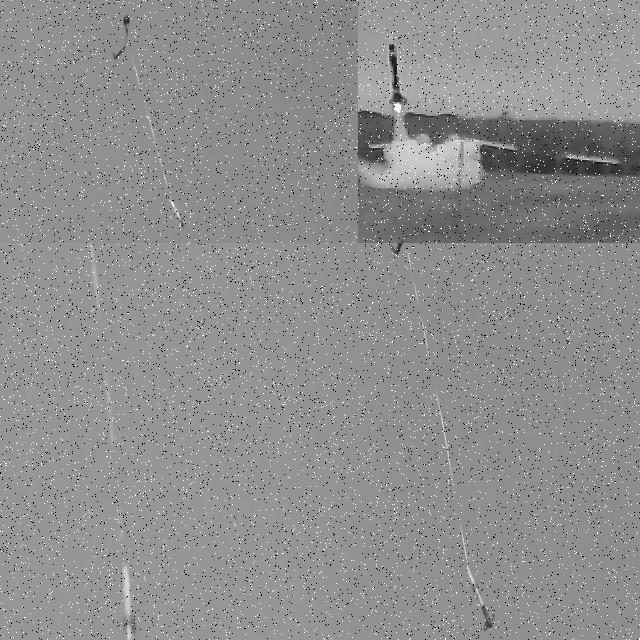Rocket: (117, 561, 150, 640), (466, 565, 495, 631), (388, 33, 408, 106), (170, 198, 187, 230)
